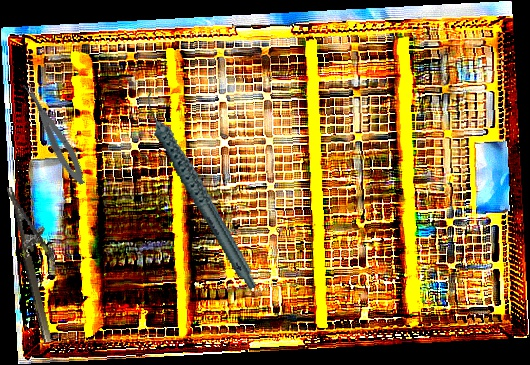Handpiece: (141, 76, 258, 303)
Micro Scissor: (19, 78, 90, 189)
Needle Holder: (6, 180, 73, 344)
